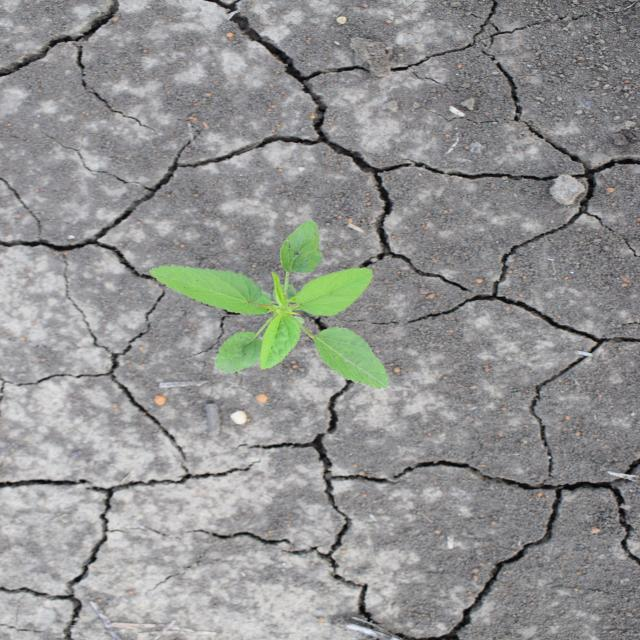PricklySida: (148, 218, 394, 392)
